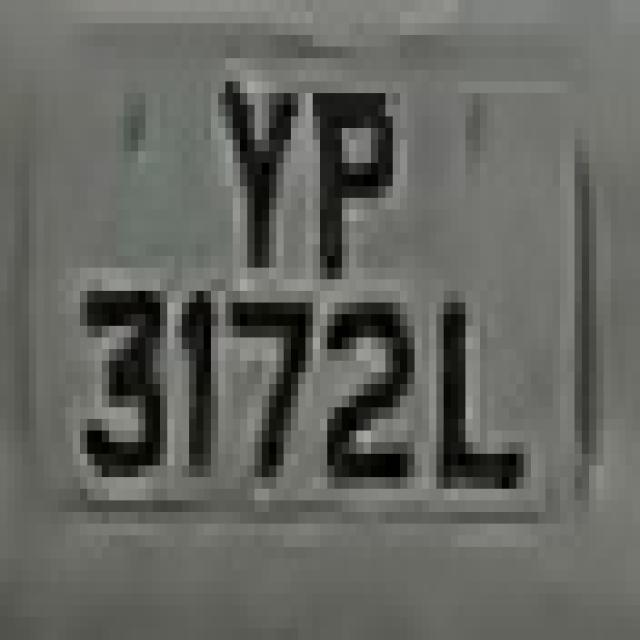1: (175, 186, 232, 547)
2: (306, 256, 414, 489)
3: (65, 210, 204, 536)
7: (196, 268, 298, 570)
L: (408, 279, 546, 559)
P: (291, 58, 407, 245)
Y: (182, 12, 327, 372)
